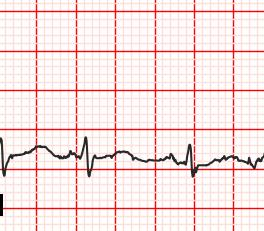Poor R Progression: (75, 134, 92, 160), (181, 142, 197, 167)
ST Depression: (67, 152, 99, 178), (170, 158, 205, 180)
